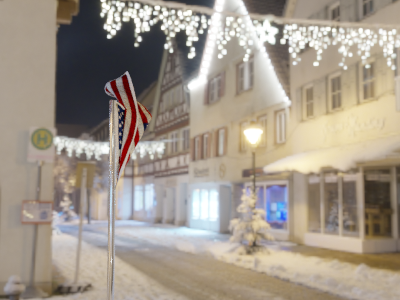America flag: (104, 67, 153, 187)
